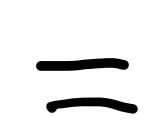eqv: (37, 57, 138, 114)
